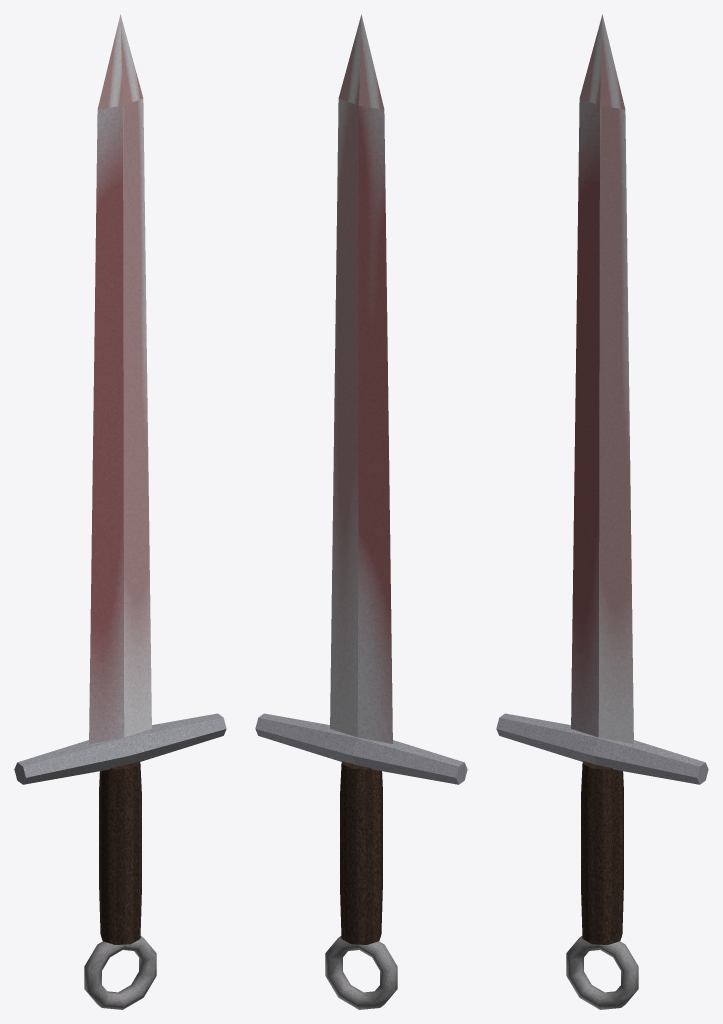
The model's file is mm7_m398_sword.glb.
3 views of the same model, side by side, from view 1: azimuth 30°, elevation 25°; view 2: azimuth 150°, elevation 25°; view 3: azimuth 330°, elevation 25° (orthographic).
Visible parts, largest first — view 1: Sword; view 2: Sword; view 3: Sword.
Boxes of the visible parts, bbox=[...] form: Sword: bbox=[14, 14, 226, 1009]; Sword: bbox=[255, 14, 467, 1009]; Sword: bbox=[496, 14, 708, 1009].
Size of the model in its own units: 0.14 by 0.6628 by 0.027.
1 material, 1 textured.
